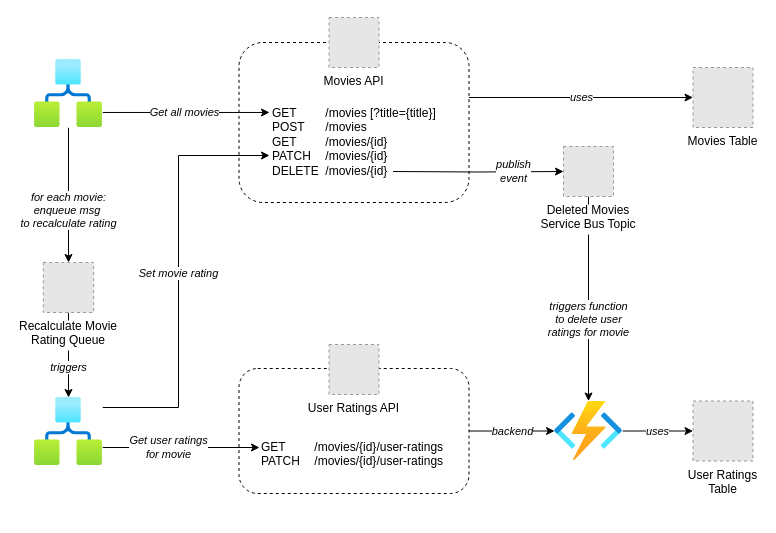
The diagram is 776 pixels wide and 533 high, and some of its shapes have lost their labels. Grey dashed boxes stand in for pictures. Here are the shapes that lost their labels. From the top down, the centre of each, then its label:
At (x=68, y=93): "Recaclulate Rating for All Movies Workflow".
At (x=68, y=431): "Recaclulate Rating for Single Movie Workflow".
At (x=588, y=430): "User Ratings Function App".
